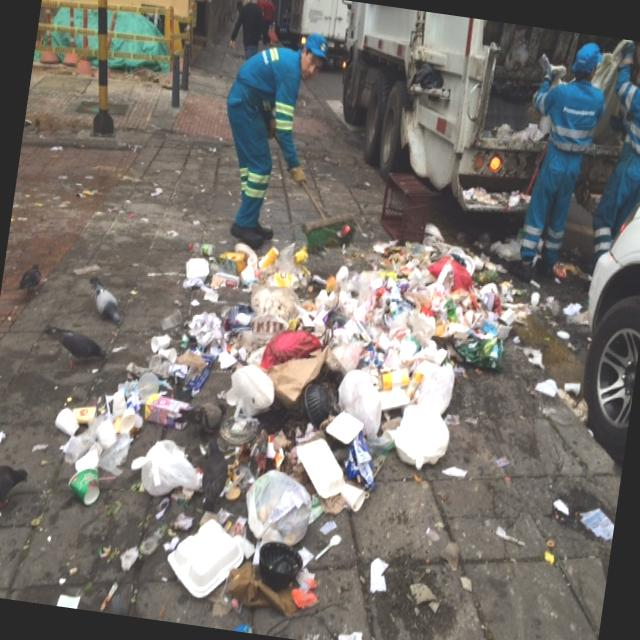garbage: (29, 182, 559, 640)
